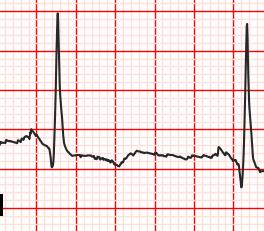Pathological Q Wave: (35, 138, 61, 172)
T inversion: (80, 139, 147, 178)
